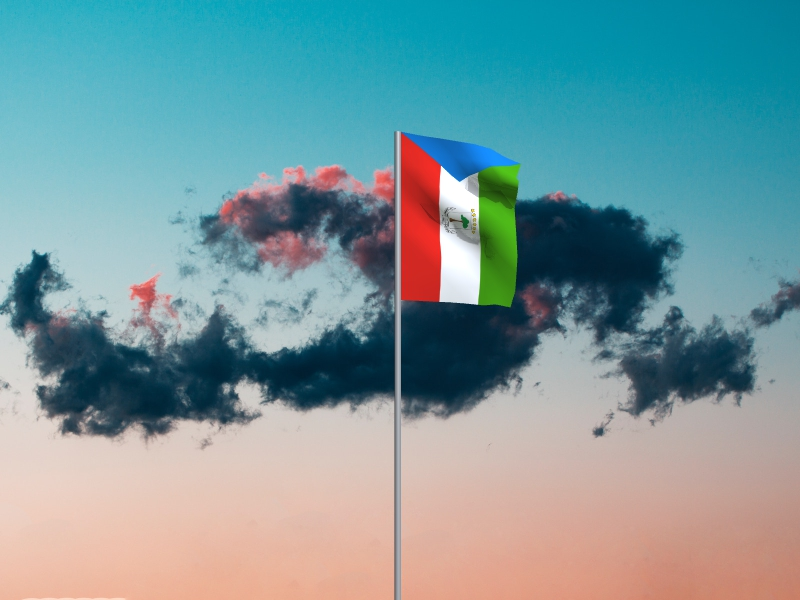gq: (401, 133, 523, 309)
